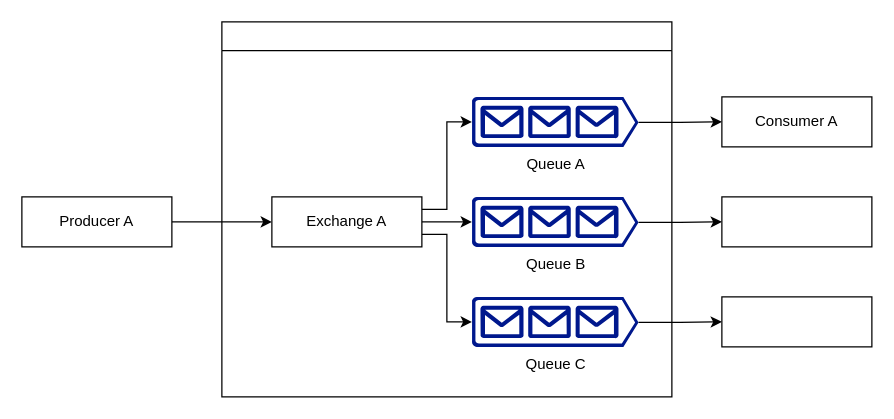
Some shapes in this 894 by 419 pixel diagram are drawn without their labels. Each missing label, with the box of its shape:
Broker A: (221, 21, 672, 397)
Consumer B: (721, 196, 872, 247)
Consumer C: (721, 296, 872, 347)
